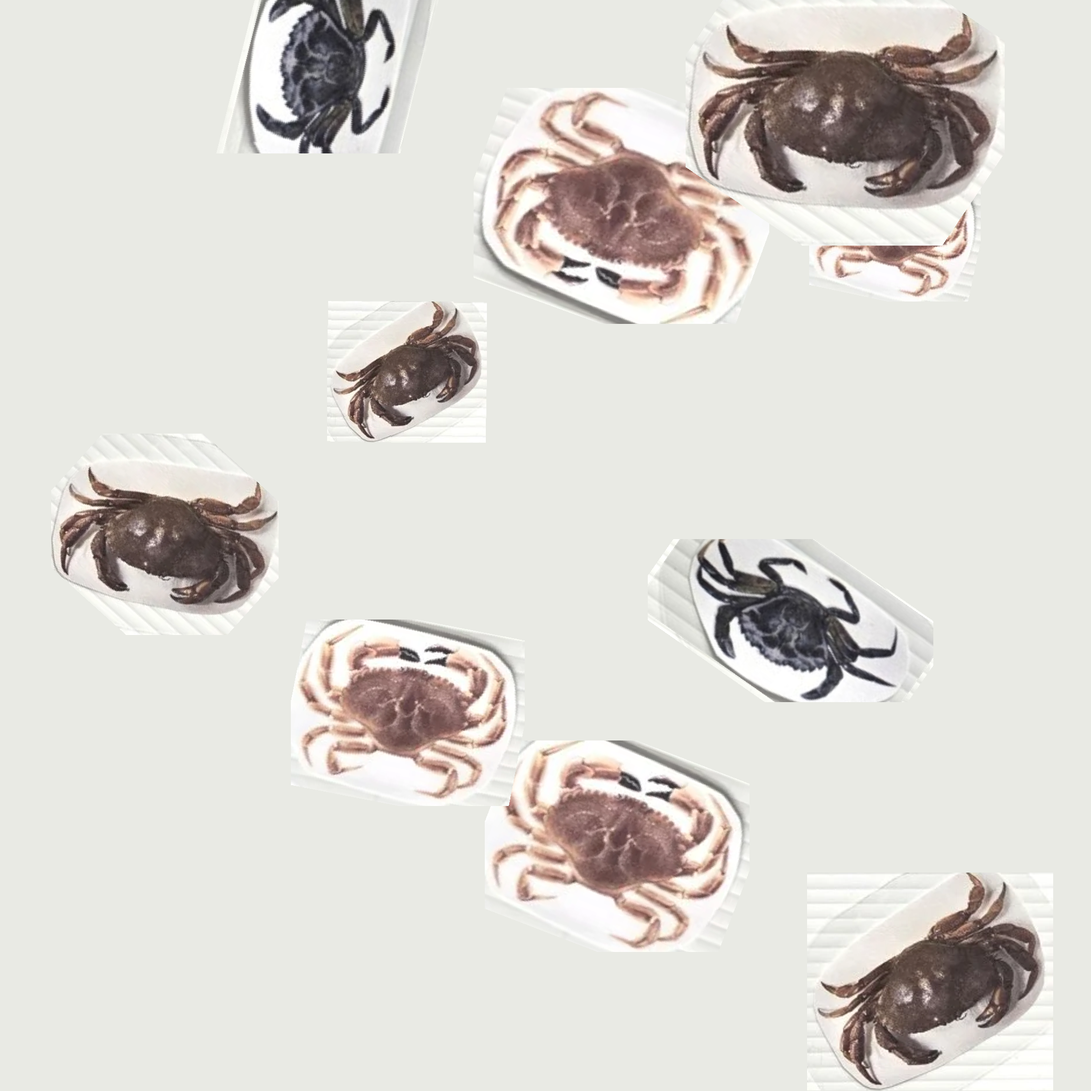evil: (690, 541, 897, 696), (255, 0, 409, 149)
normal: (505, 65, 735, 306), (813, 864, 1055, 1074), (743, 31, 973, 210), (73, 438, 264, 620), (516, 797, 729, 945), (317, 631, 502, 788), (328, 289, 499, 446), (813, 199, 954, 309)
